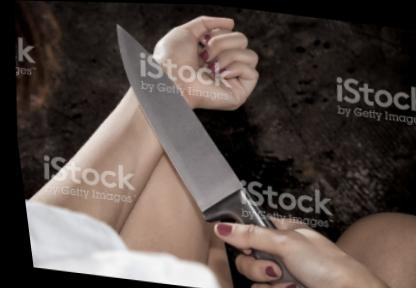knife: (77, 12, 327, 285)
